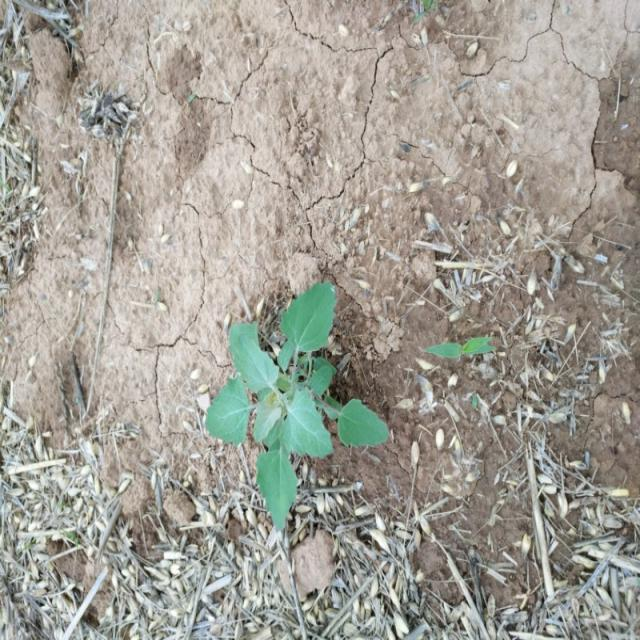goosefoots: (174, 283, 390, 536)
